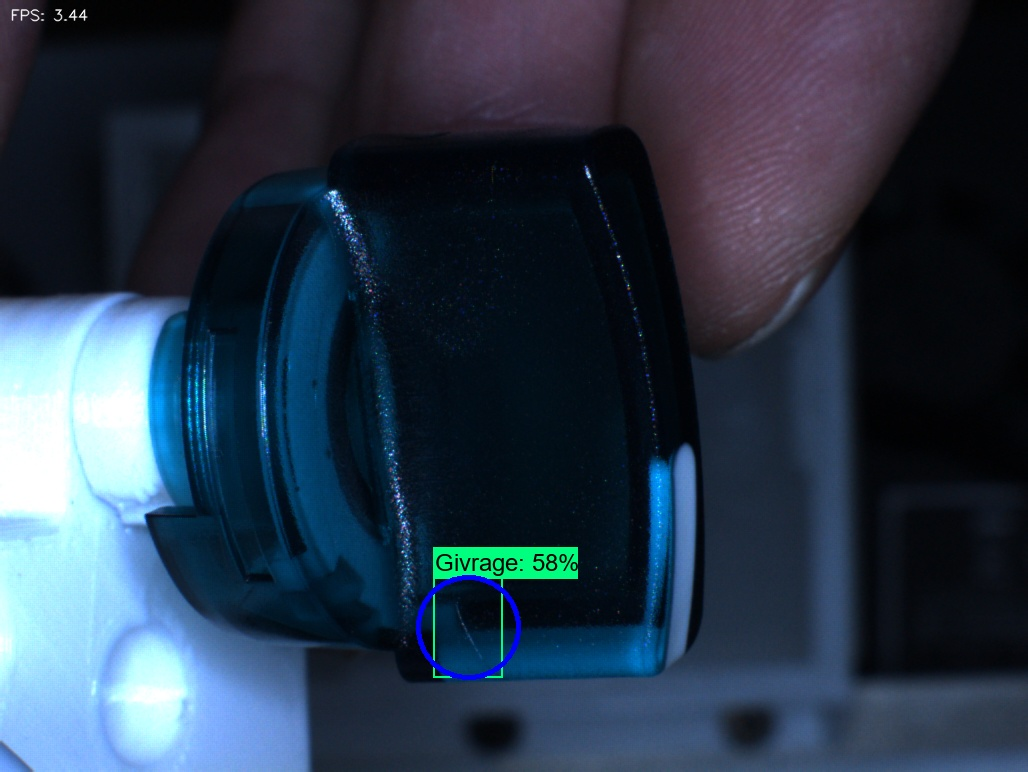PointNoir: (281, 341, 348, 416)
